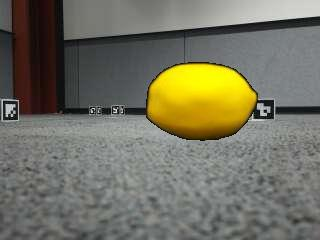lemon: (151, 65, 260, 141)
